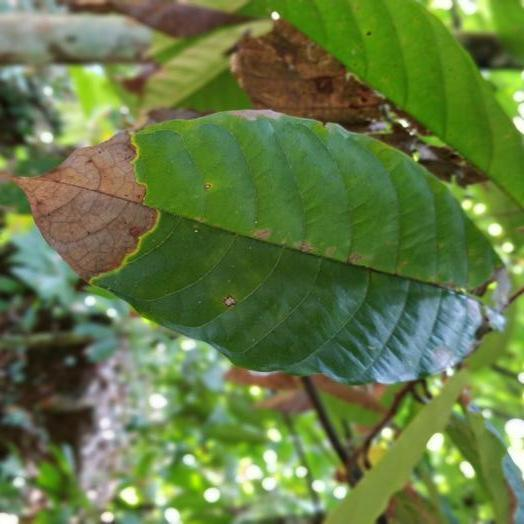Potassium: (17, 111, 500, 383)
